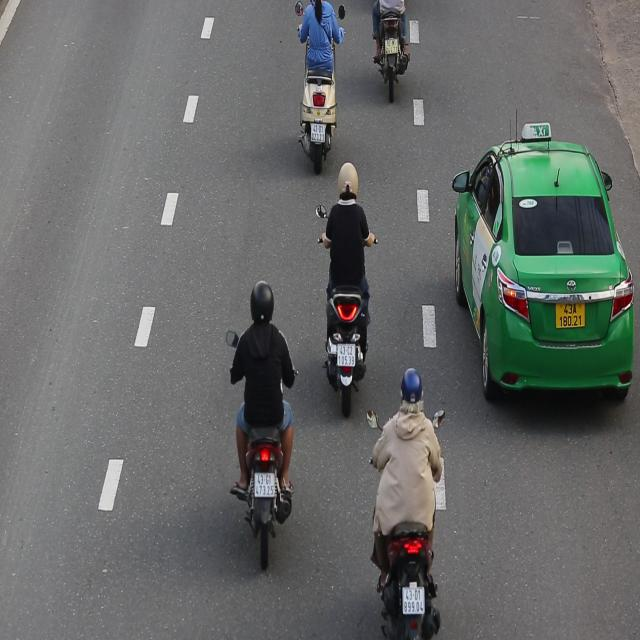motorbike: (218, 271, 302, 577), (368, 360, 448, 640), (314, 154, 378, 422)
